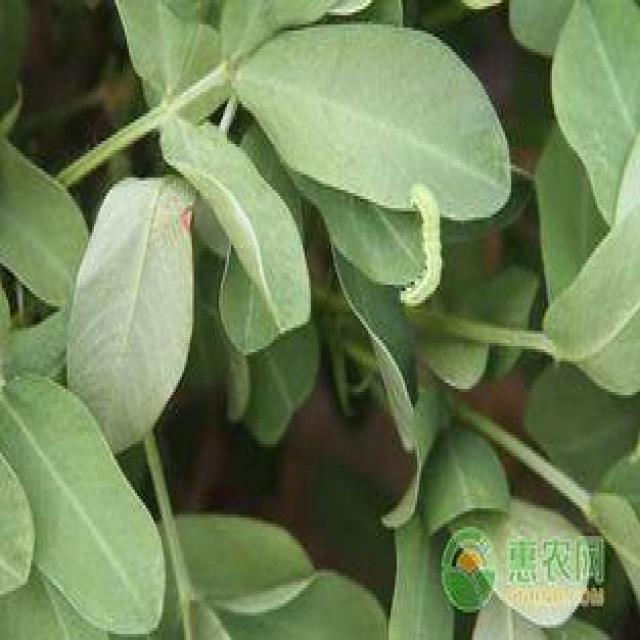BeetArmyWorm-Larva-: (388, 174, 457, 318)
